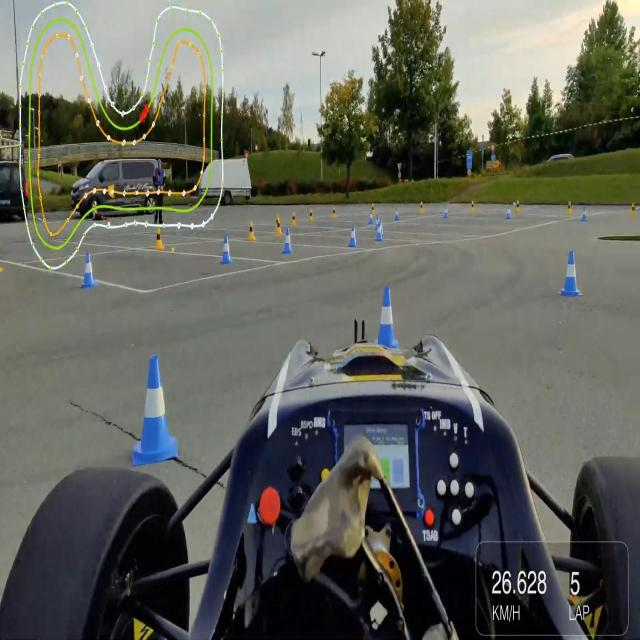blue_cone: (129, 350, 179, 462), (371, 285, 401, 353), (562, 248, 580, 298), (80, 252, 98, 290), (219, 235, 232, 264), (280, 228, 293, 256), (349, 220, 357, 248), (580, 206, 588, 224), (376, 222, 382, 241), (378, 218, 384, 237), (443, 202, 449, 220), (368, 209, 374, 226), (506, 206, 512, 222), (375, 213, 380, 230), (395, 207, 400, 221)
yellow_cone: (154, 225, 164, 251), (247, 221, 255, 242), (629, 202, 637, 218), (274, 213, 280, 233), (276, 217, 282, 235), (566, 201, 572, 216), (291, 212, 297, 227), (515, 200, 521, 214), (470, 200, 476, 212), (309, 208, 314, 222), (419, 202, 424, 214), (332, 206, 336, 220), (371, 202, 375, 216)
